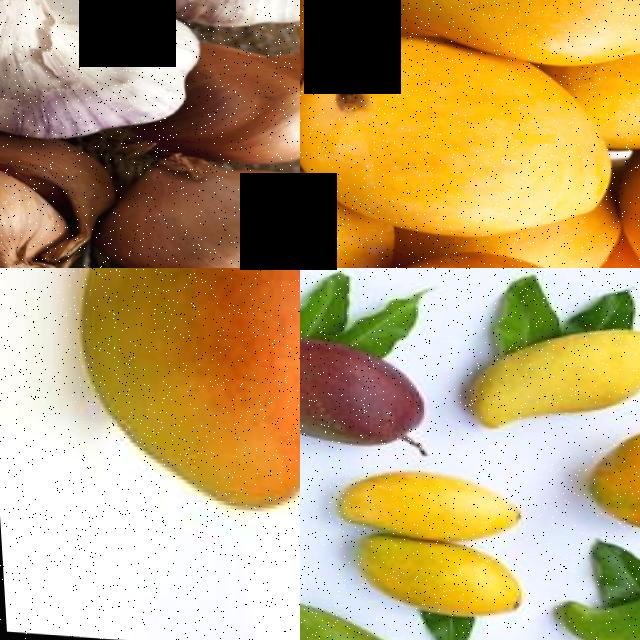mango: (300, 32, 607, 243), (59, 268, 300, 519), (457, 311, 640, 427), (307, 0, 640, 56), (300, 321, 435, 449), (345, 531, 531, 621), (328, 460, 526, 544), (573, 415, 640, 538), (550, 561, 640, 640), (300, 593, 448, 640)
onion: (102, 154, 300, 268), (176, 29, 300, 173)
